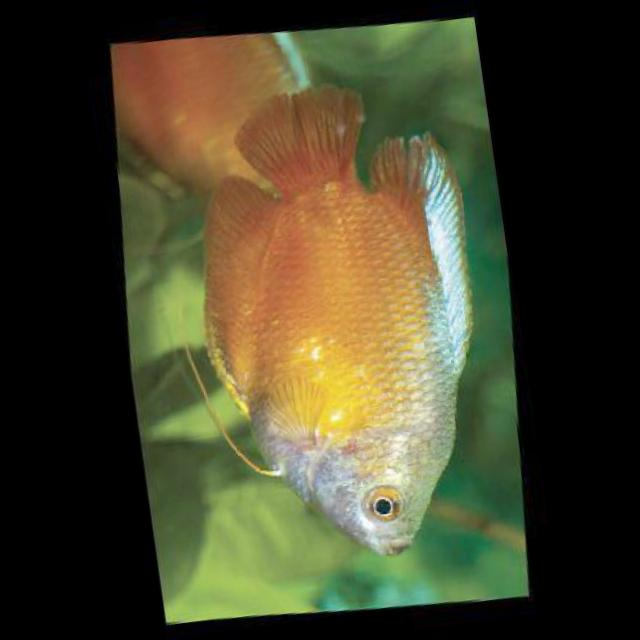Gourami: (171, 71, 508, 579)
